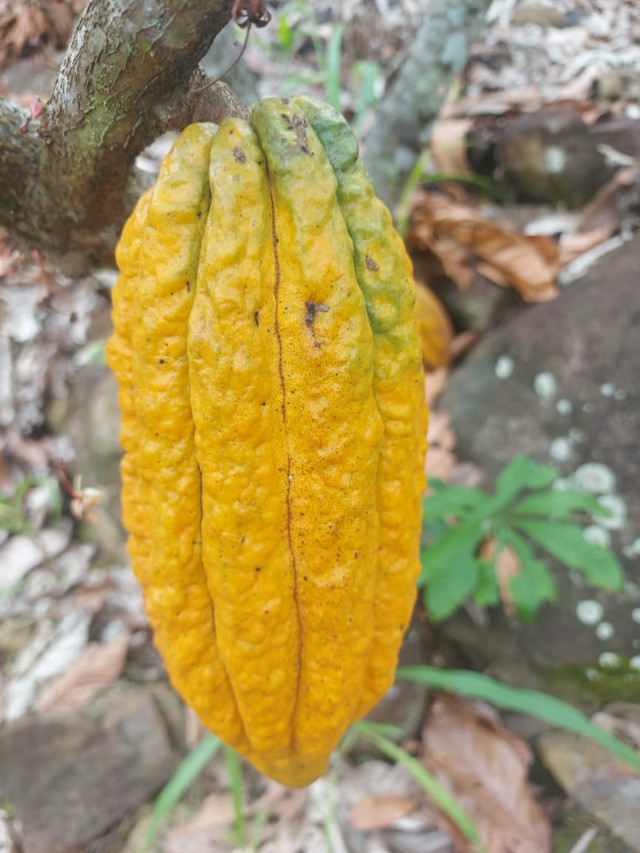Health: (94, 65, 459, 810)
